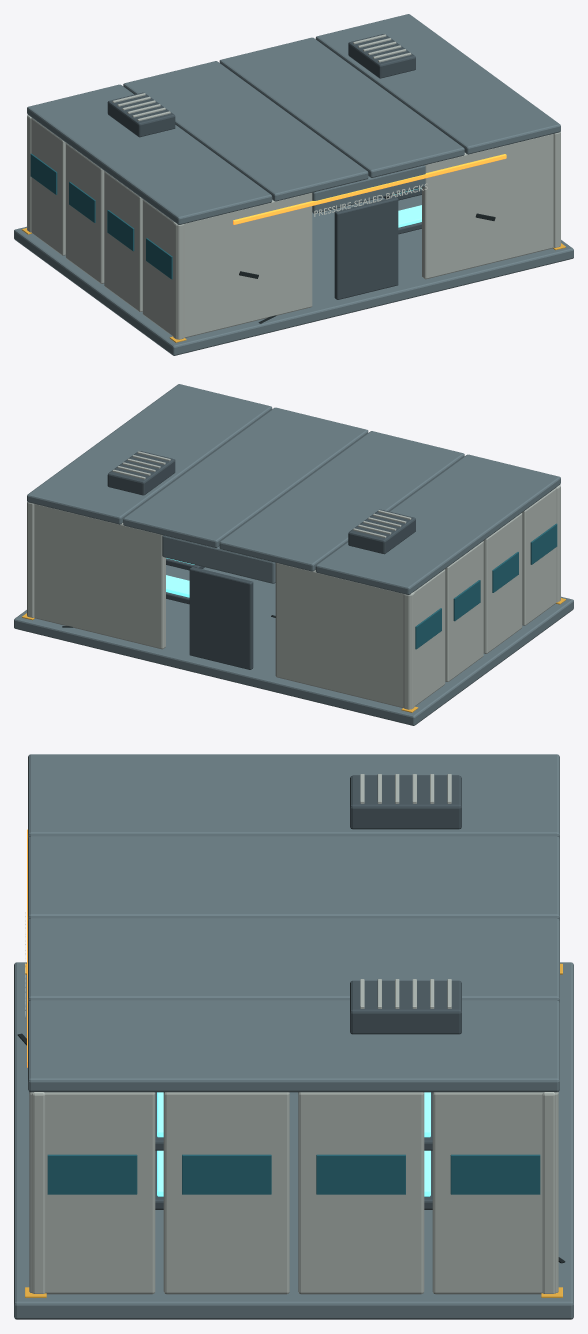
File: personnel_barracks_d1.glb
3 renders of one model, top to bottom at view 1: azimuth 30°, elevation 25°; view 2: azimuth 150°, elevation 25°; view 3: azimuth 270°, elevation 25°, orthographic. The views are drawn at different scales.
Parts seen in each view (by area): view 1: Removable roof segment.016, End bulkhead.018, End bulkhead.019, Removable roof segment.015, Removable roof segment.014, Foundation.005, Removable roof segment.017, Sealed airlock.006, Side pressure panel.033, Side pressure panel.031, Side pressure panel.032, Side pressure panel.034 (+11 smaller); view 2: End bulkhead.020, End bulkhead.021, Removable roof segment.016, Removable roof segment.015, Removable roof segment.014, Foundation.005, Removable roof segment.017, Sealed airlock.007, Side pressure panel.032, Side pressure panel.034, Side pressure panel.033, Side pressure panel.031 (+9 smaller); view 3: Removable roof segment.017, Removable roof segment.015, Removable roof segment.016, Removable roof segment.014, Foundation.005, Side pressure panel.036, Side pressure panel.037, Side pressure panel.035, Side pressure panel.038, Roof heat exchanger.007, Roof heat exchanger.008, Observation glass.032 (+5 smaller).
Boxes of the visible parts, box(x1,y1,x2,y2) form: Removable roof segment.016: box(219, 37, 464, 177); End bulkhead.018: box(173, 193, 312, 339); End bulkhead.019: box(422, 132, 560, 279); Removable roof segment.015: box(123, 61, 368, 201); Removable roof segment.014: box(27, 84, 272, 224); Foundation.005: box(14, 195, 573, 355); Removable roof segment.017: box(315, 14, 560, 154); Sealed airlock.006: box(334, 197, 398, 299); Side pressure panel.033: box(65, 143, 104, 283); Side pressure panel.031: box(142, 199, 184, 339); Side pressure panel.032: box(104, 171, 142, 311); Side pressure panel.034: box(27, 115, 65, 255); End bulkhead.020: box(275, 563, 414, 709); End bulkhead.021: box(27, 502, 165, 649); Removable roof segment.016: box(123, 407, 368, 547); Removable roof segment.015: box(219, 431, 464, 571); Removable roof segment.014: box(315, 454, 560, 594); Foundation.005: box(14, 565, 573, 725); Removable roof segment.017: box(27, 384, 272, 524); Sealed airlock.007: box(189, 567, 253, 669); Side pressure panel.032: box(483, 513, 522, 653); Side pressure panel.034: box(403, 569, 445, 709); Side pressure panel.033: box(445, 541, 483, 681); Side pressure panel.031: box(522, 485, 560, 625); Removable roof segment.017: box(28, 1000, 559, 1092); Removable roof segment.015: box(28, 836, 559, 920); Removable roof segment.016: box(28, 918, 559, 1002); Removable roof segment.014: box(28, 754, 559, 838); Foundation.005: box(14, 962, 573, 1319); Side pressure panel.036: box(163, 1092, 289, 1294); Side pressure panel.037: box(298, 1092, 424, 1294); Side pressure panel.035: box(29, 1092, 155, 1294); Side pressure panel.038: box(432, 1092, 558, 1294); Roof heat exchanger.007: box(350, 775, 461, 829); Roof heat exchanger.008: box(350, 980, 461, 1034); Observation glass.032: box(47, 1154, 137, 1194).
Bounding box in the file's own units: 13 × 4.61 × 9.
